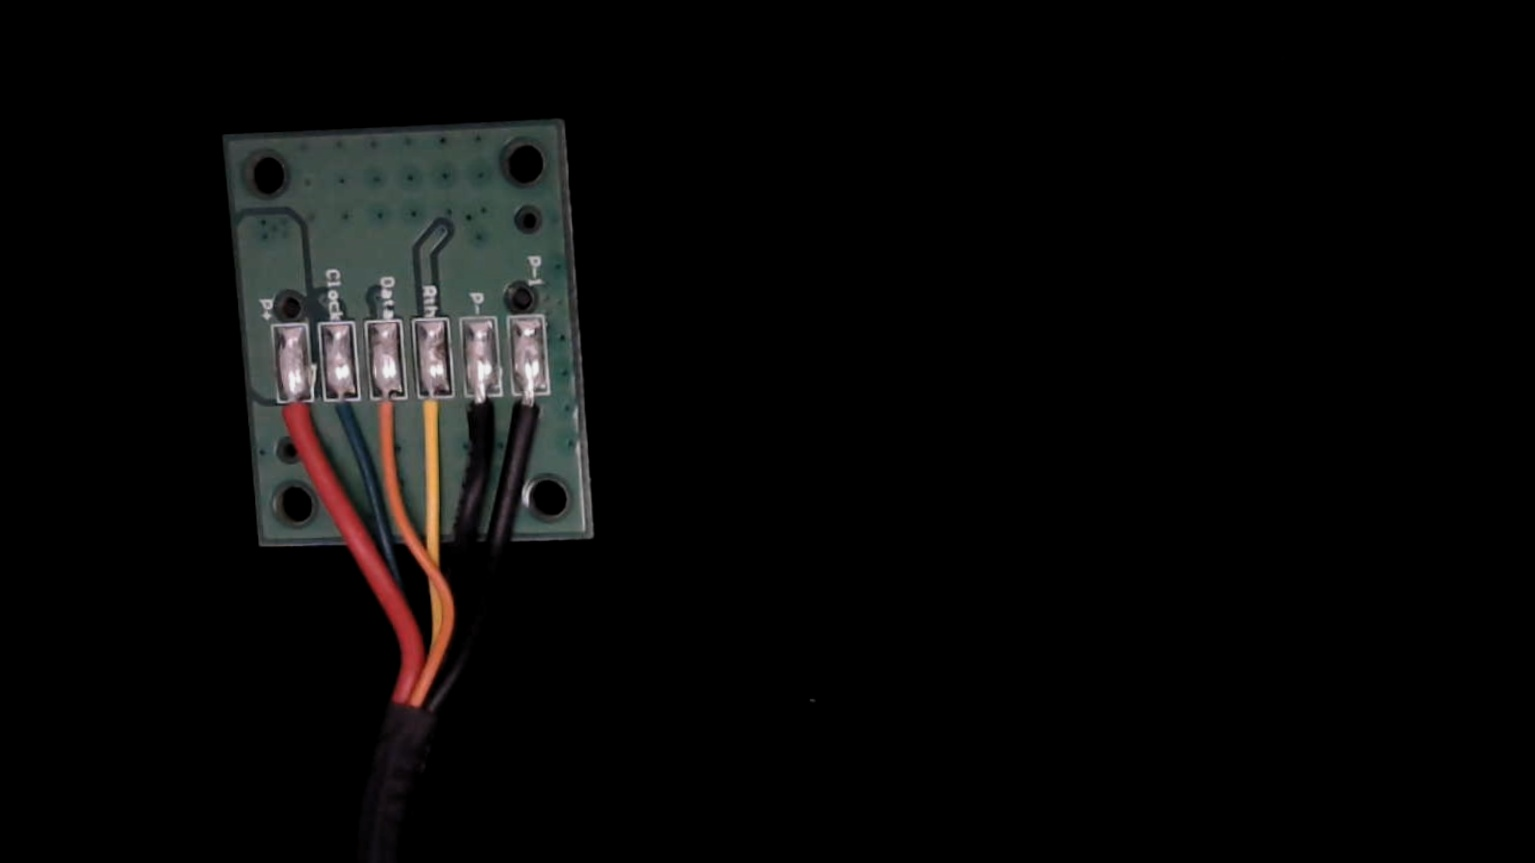Black: (462, 366, 505, 456)
Black1: (509, 368, 552, 451)
Green: (319, 374, 364, 460)
Orange: (368, 369, 409, 458)
Red: (273, 376, 316, 463)
Yellow: (409, 369, 453, 462)
